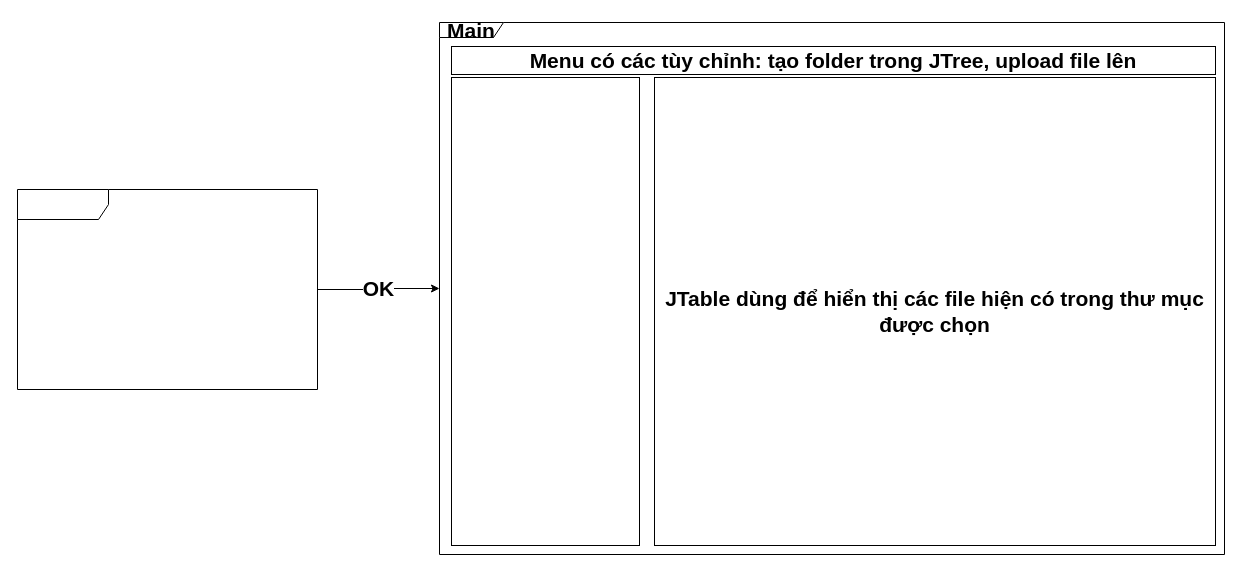
Image size: 1242x572. Some labels were removed from this diagram. Each missing label, with the centre of its shape:
"JTree dùng để lưu danh sách thư mục dạng cây" goes at (545,311).
"Log in" goes at (167,289).
